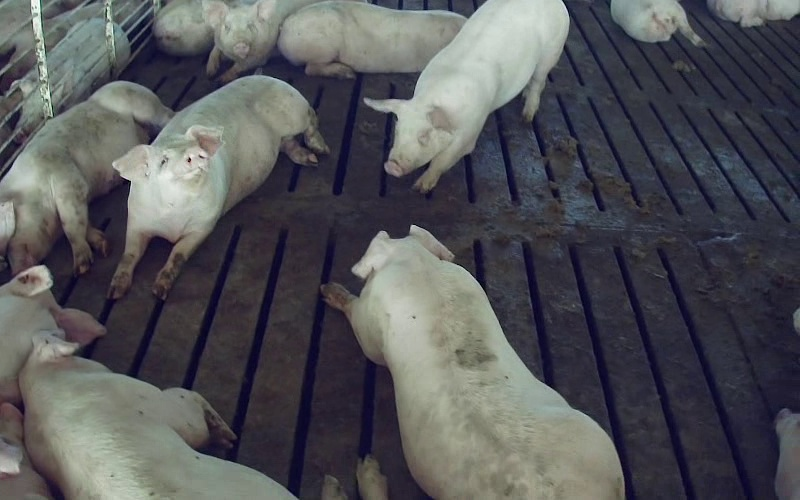pig: (321, 226, 622, 499), (0, 81, 173, 274), (202, 0, 318, 82)
